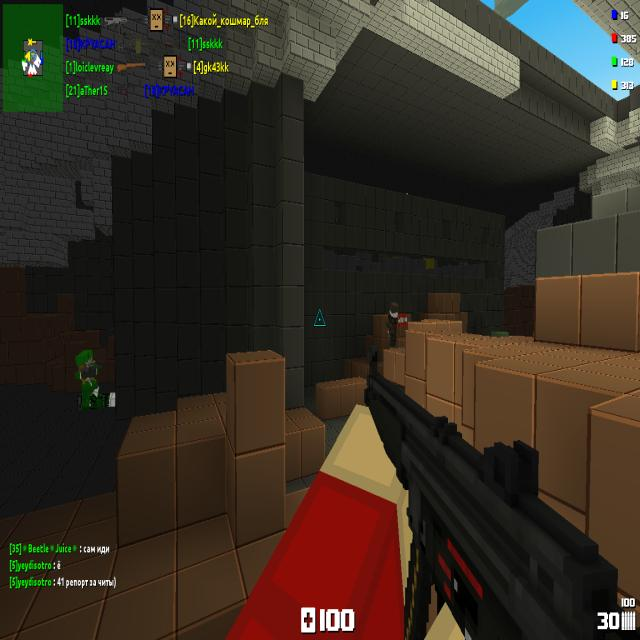enemy: (74, 345, 106, 413), (387, 301, 401, 348)
